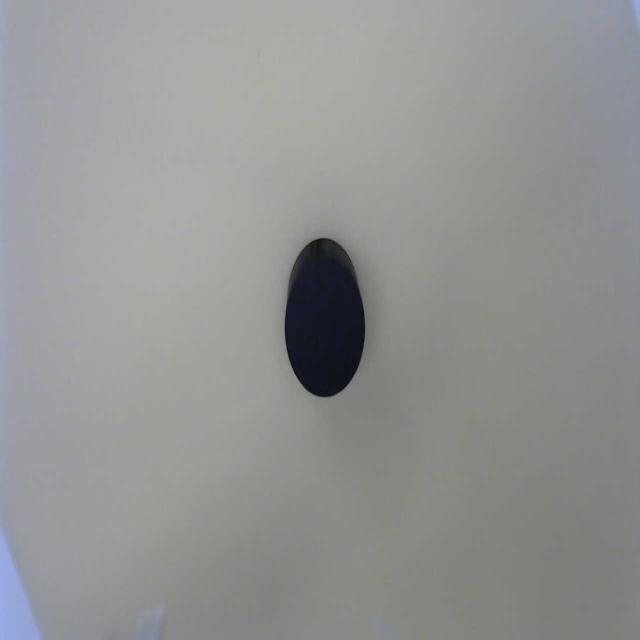circle: (285, 258, 368, 401)
